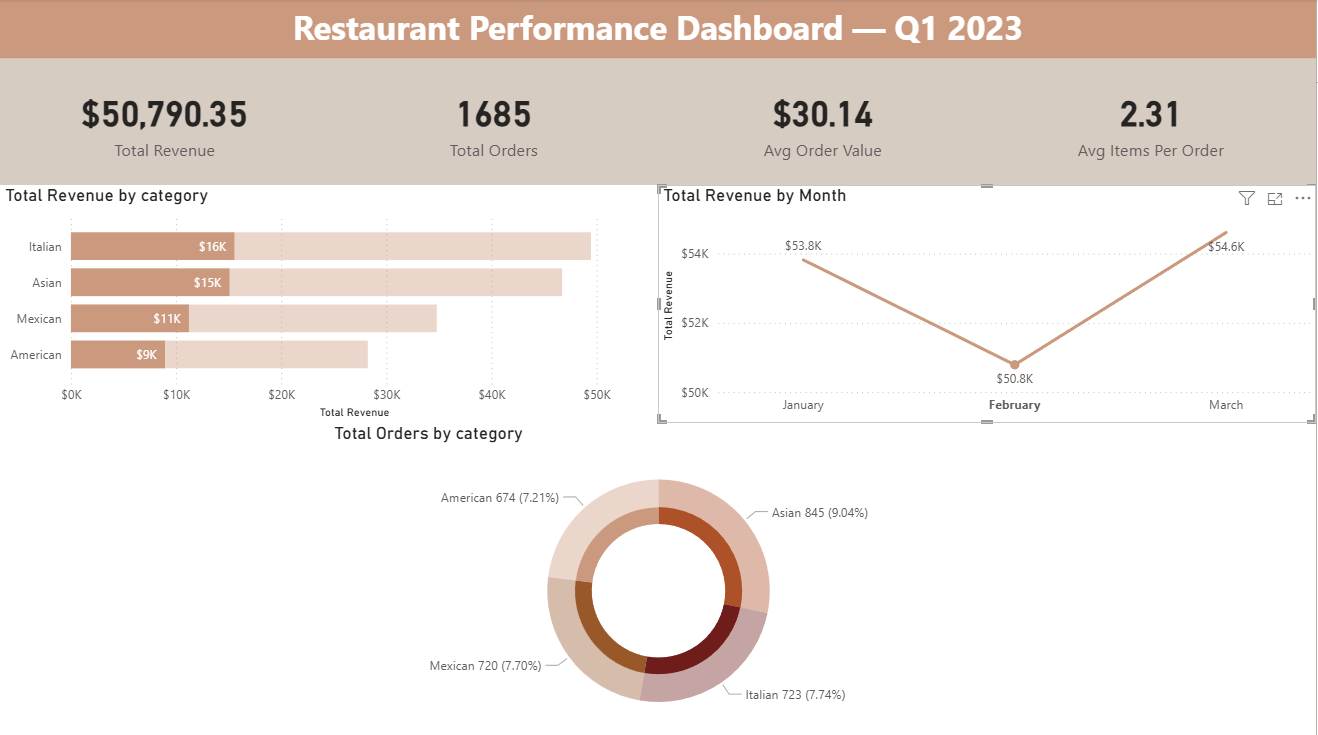

The dashboard page shown, as its layout file describes it:
{"tool":"powerbi","page":{"name":"KPI Overview","canvas":[1280,720],"ordinal":0},"visuals":[{"type":"card","fields":{"Values":["Measures1.Total Revenue"]},"box":[0,58.2,320.6,122.7],"z":0},{"type":"card","fields":{"Values":["Measures1.Total Orders"]},"box":[319.7,58.2,320.6,122.7],"z":1000},{"type":"card","fields":{"Values":["Measures1.Avg Order Value"]},"box":[640.3,58.2,320.6,122.7],"z":2000},{"type":"card","fields":{"Values":["Measures1.Avg Items Per Order"]},"box":[959.1,58.2,320.6,122.7],"z":3000},{"type":"textbox","box":[0,0,1280,58.4],"z":4000},{"type":"clusteredBarChart","fields":{"Category":["menu_items_exp.category"],"Y":["Measures1.Total Revenue"]},"box":[0,180.9,640,231.5],"z":5000},{"type":"lineChart","fields":{"Category":["order_details_exp.order_date.Variation.Date Hierarchy.Month"],"Y":["Measures1.Total Revenue"]},"box":[640,180.9,640,231.5],"z":6000},{"type":"donutChart","fields":{"Category":["menu_items_exp.category"],"Y":["Measures1.Total Orders"]},"box":[320,412.4,641,307.4],"z":7000}]}

Visuals, with their boxes in screenshot pixels (x1, y1, x2, y2), scaled from the page's 1280x720 canvas onto the 1318x735 screenshot:
card - Measures1.Total Revenue: <bbox>0, 59, 330, 185</bbox>
card - Measures1.Total Orders: <bbox>329, 59, 659, 185</bbox>
card - Measures1.Avg Order Value: <bbox>659, 59, 989, 185</bbox>
card - Measures1.Avg Items Per Order: <bbox>988, 59, 1317, 185</bbox>
textbox: <bbox>0, 0, 1317, 60</bbox>
clusteredBarChart - menu_items_exp.category x Measures1.Total Revenue: <bbox>0, 185, 659, 421</bbox>
lineChart - order_details_exp.order_date.Variation.Date Hierarchy.Month x Measures1.Total Revenue: <bbox>659, 185, 1317, 421</bbox>
donutChart - menu_items_exp.category x Measures1.Total Orders: <bbox>330, 421, 990, 734</bbox>
